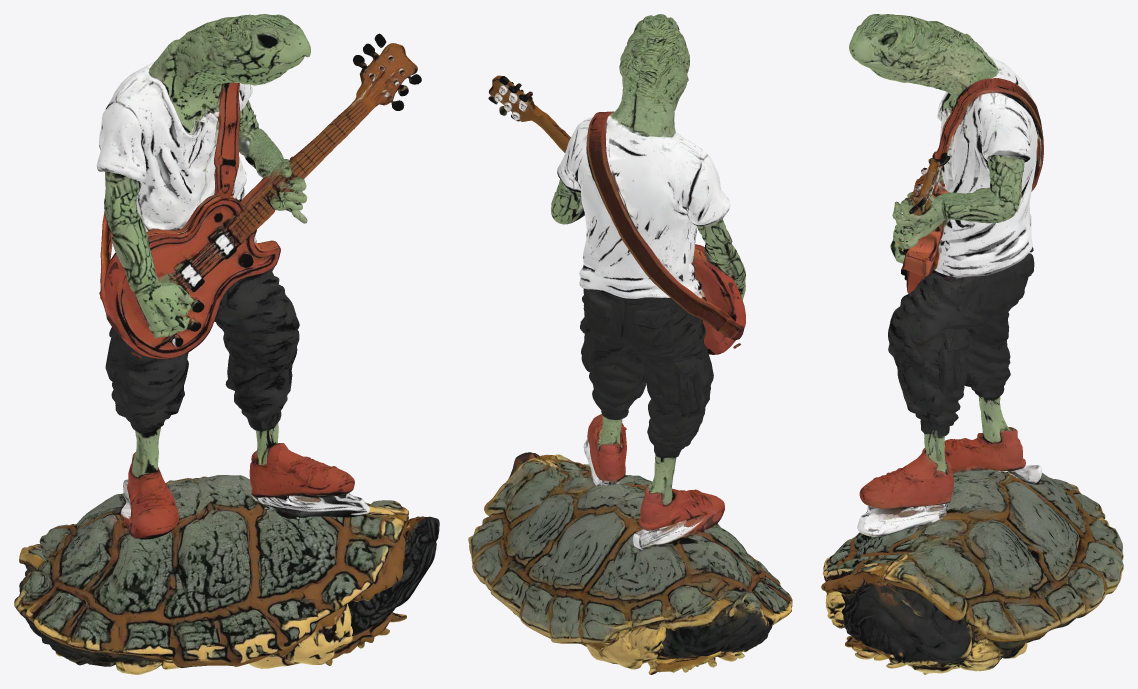
The model's file is klostro-turtle.glb.
3 views of the same model, side by side, from view 1: azimuth 30°, elevation 25°; view 2: azimuth 150°, elevation 25°; view 3: azimuth 270°, elevation 25° (orthographic). The views are drawn at different scales.
Visible parts, largest first — view 1: mesh_node; view 2: mesh_node; view 3: mesh_node.
Part boxes in pixels (x1=…): mesh_node: x1=14, y1=14, x2=439, y2=674; mesh_node: x1=468, y1=14, x2=792, y2=674; mesh_node: x1=821, y1=14, x2=1123, y2=674.
Bounding box in the file's own units: 1.11 × 1.9 × 0.8544.
1 material, 1 textured.
